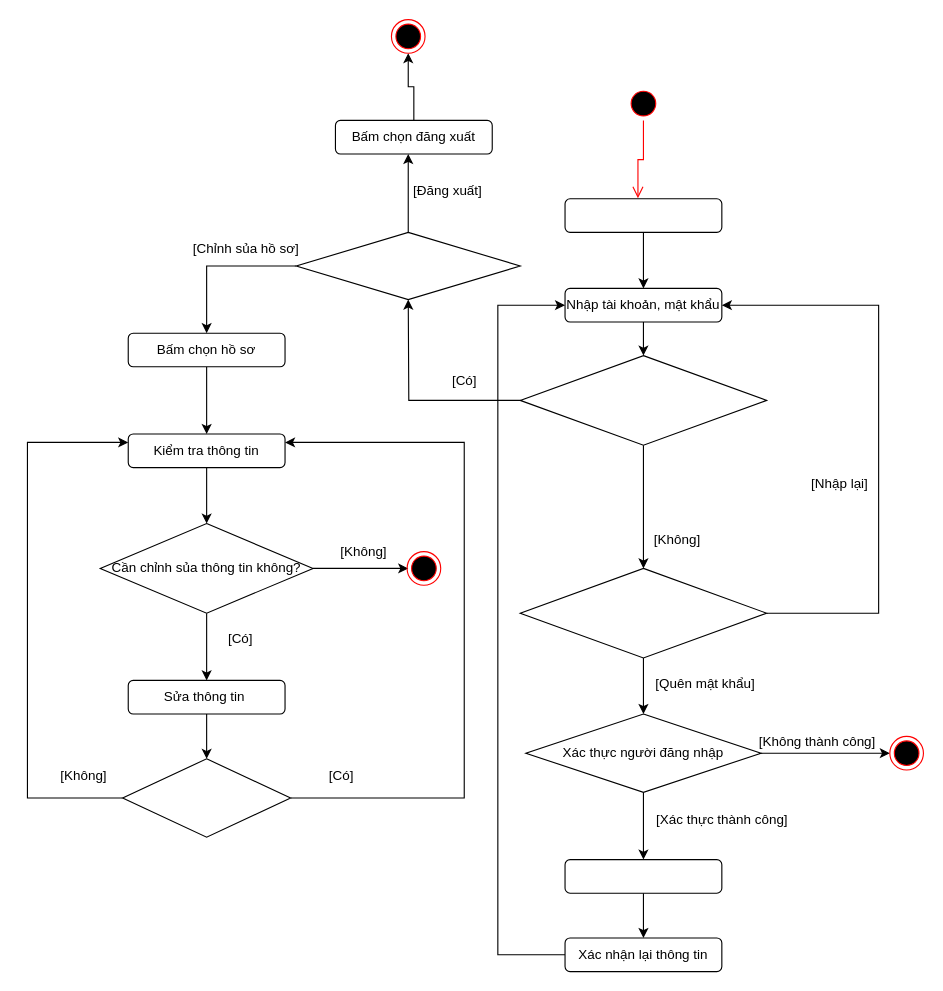
Some shapes in this 943 by 991 pixel diagram are drawn without their labels. The shapes that lost their labels are listed below. From the top down, each one's centre as x and y in pixels, then its label:
the point at 643,215: Đăng nhập vào hệ thống
the point at 643,399: Thông tin đăng nhập có đúng không?
the point at 206,797: Xác nhận thay đổi
the point at 643,875: Nhập tài khoản, mật khẩu mới
